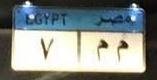7: (40, 34, 55, 60)
meem: (116, 39, 130, 63), (94, 37, 108, 61)
